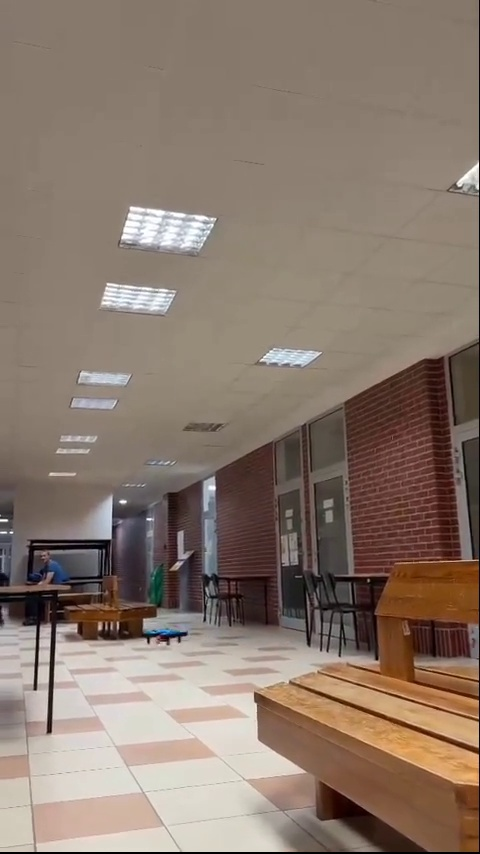drone: (146, 628, 188, 647)
no vest: (32, 542, 65, 593)
